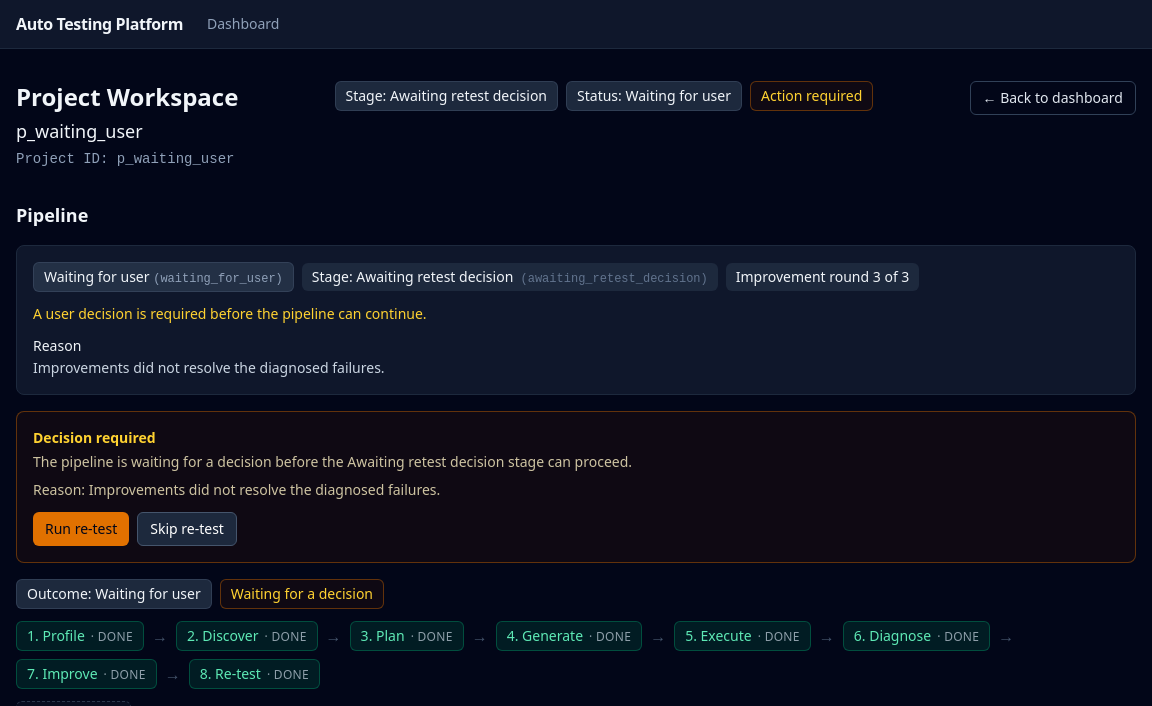
Test: Project workspace — decision gates › reconciles immediately with authoritative state after a 409 conflict
This screenshot has width=1152, height=706.
Click the button "Run re-test": (81,529) top-left (33, 512), bottom-right (129, 546)
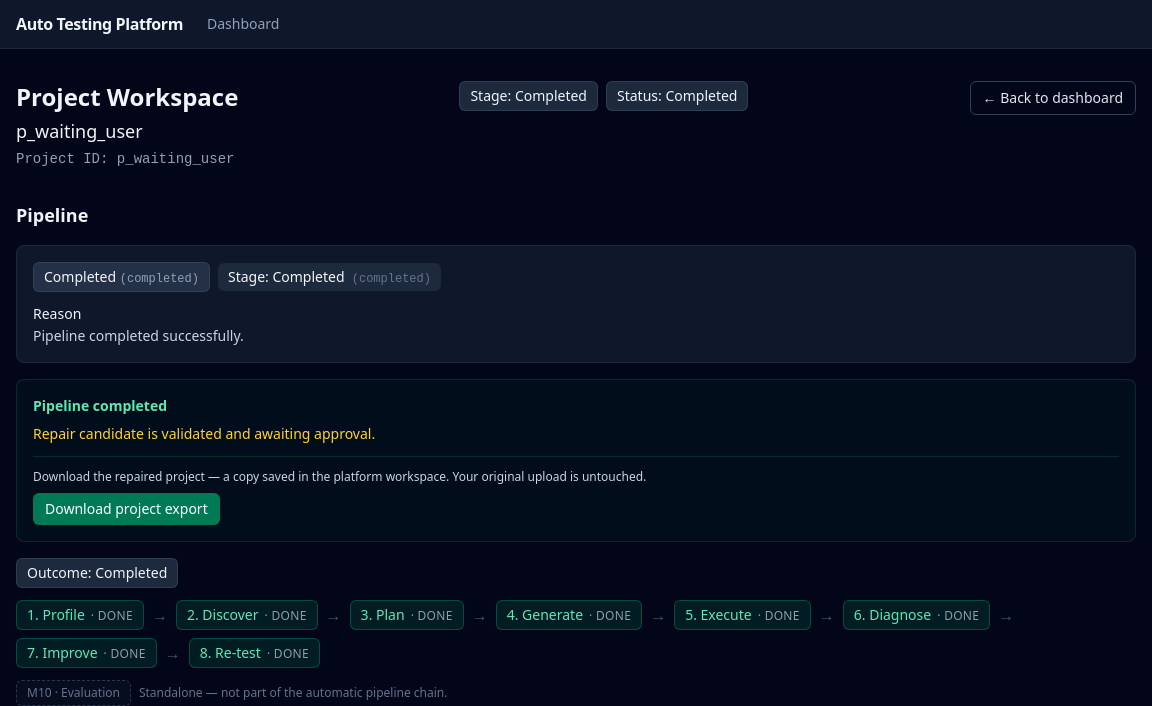
expect the button "Run re-test" is gone: met
expect the button "Skip re-test" is gone: met
